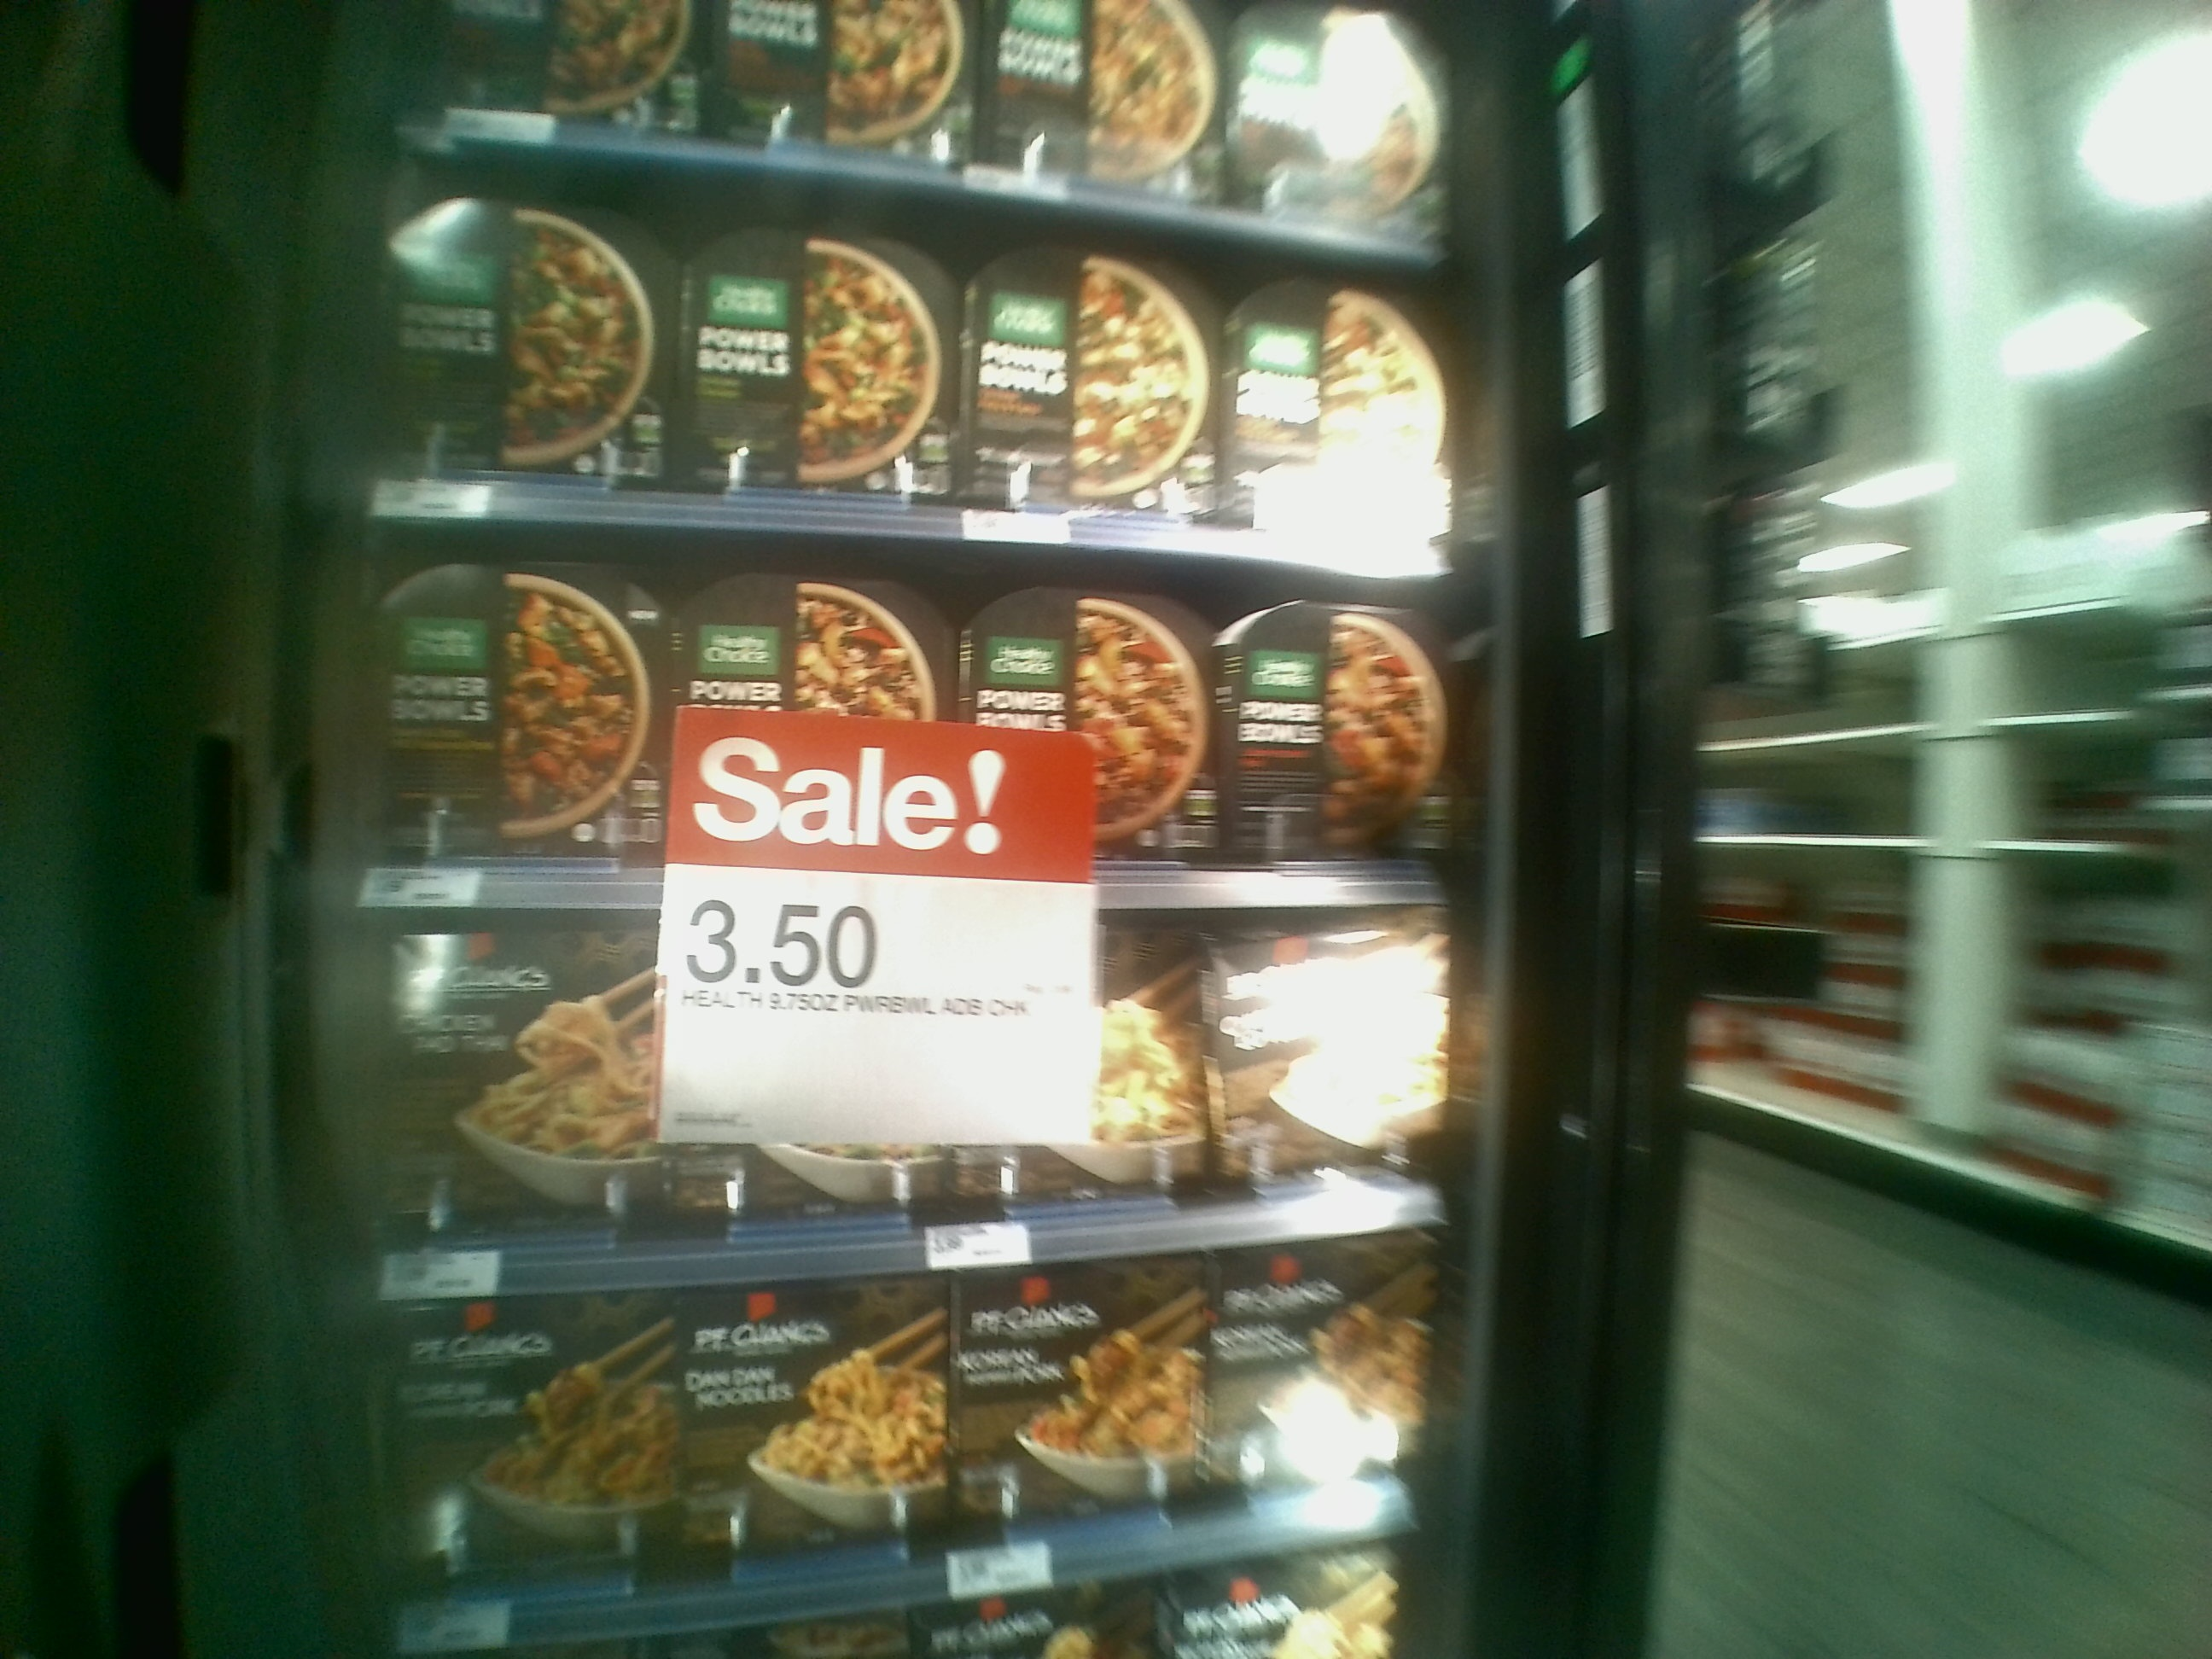shelf: (359, 514, 1486, 908)
